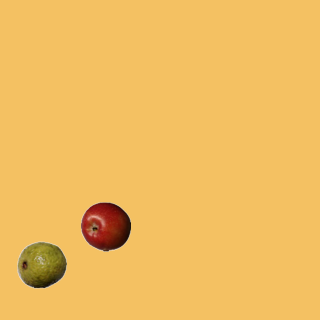Apple Braeburn: (80, 201, 130, 251)
Guava: (16, 239, 66, 289)
